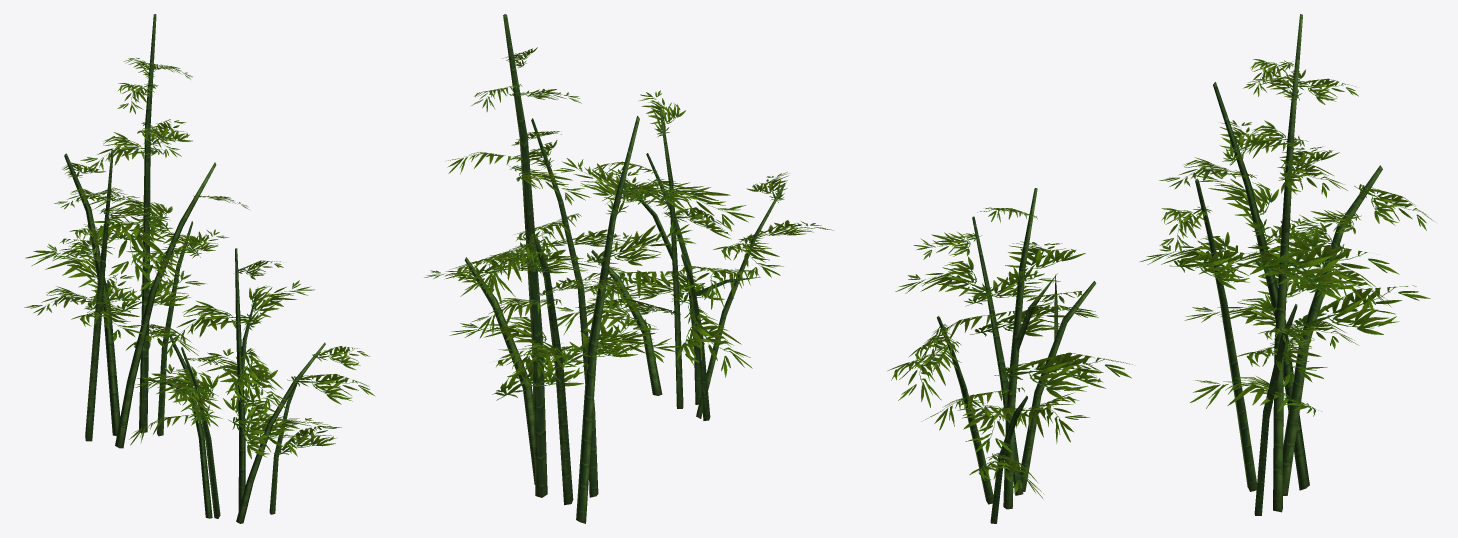
The model's file is JJS_DL_ZhuZi.FBX.
The picture shows the model from 3 angles, left to right: view 1: azimuth 30°, elevation 25°; view 2: azimuth 150°, elevation 25°; view 3: azimuth 270°, elevation 25°; orthographic projection. The views are drawn at different scales.
Visible parts, largest first — view 1: JJS_DL_ZhuYe01, JJS_DL_ZhuYe02, JJS_DL_ZhuZi01, JJS_DL_ZhuZi02; view 2: JJS_DL_ZhuYe01, JJS_DL_ZhuZi01, JJS_DL_ZhuYe02, JJS_DL_ZhuZi02; view 3: JJS_DL_ZhuYe01, JJS_DL_ZhuYe02, JJS_DL_ZhuZi01, JJS_DL_ZhuZi02.
Boxes of the visible parts, <box> form: JJS_DL_ZhuYe01: <box>24,58,250,357</box>; JJS_DL_ZhuYe02: <box>129,260,375,459</box>; JJS_DL_ZhuZi01: <box>64,14,216,448</box>; JJS_DL_ZhuZi02: <box>137,248,325,523</box>; JJS_DL_ZhuYe01: <box>424,47,695,400</box>; JJS_DL_ZhuZi01: <box>464,14,639,523</box>; JJS_DL_ZhuYe02: <box>553,90,834,377</box>; JJS_DL_ZhuZi02: <box>591,108,785,420</box>; JJS_DL_ZhuYe01: <box>1140,59,1433,416</box>; JJS_DL_ZhuYe02: <box>887,207,1132,498</box>; JJS_DL_ZhuZi01: <box>1195,14,1382,515</box>; JJS_DL_ZhuZi02: <box>936,188,1096,523</box>.
Bounding box in the file's own units: 617 × 1074 × 1081.
